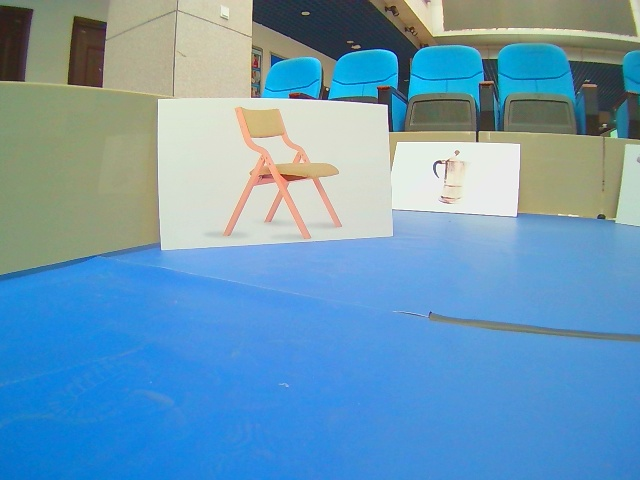dish: (391, 141, 521, 218)
table: (156, 97, 396, 250)
